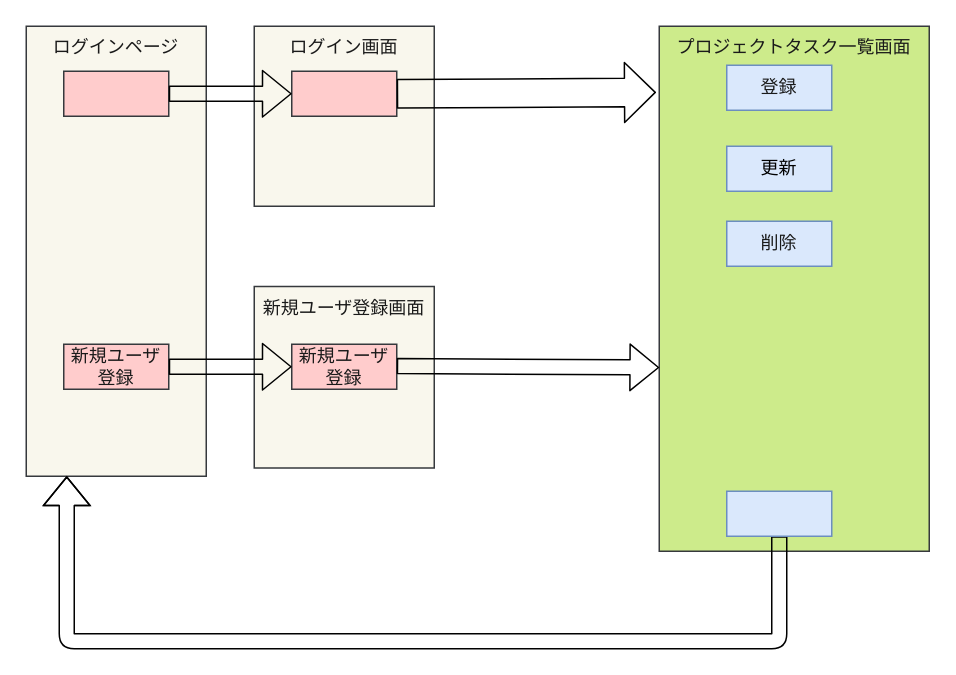
This 956x675 diagram has some shape labels left out. The centre of each missing label's shape, as x and y in pixels:
ログアウト: (x=778, y=513)
ログイン: (x=115, y=93)
編集: (x=343, y=93)
